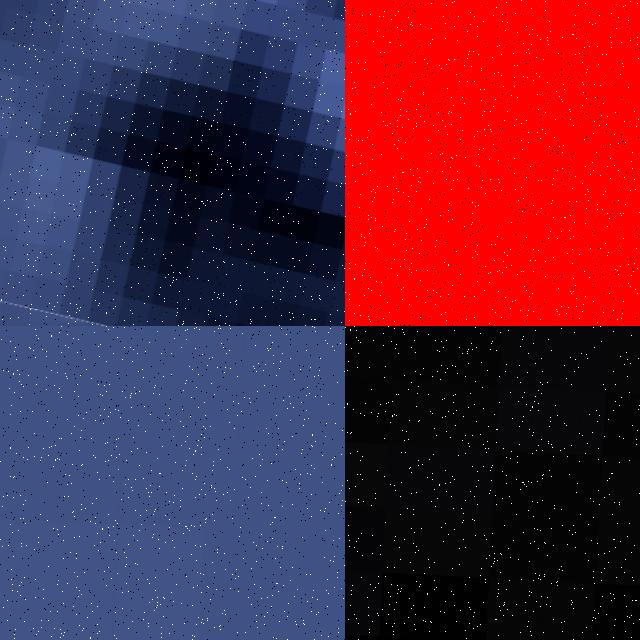drone: (0, 0, 345, 326)
